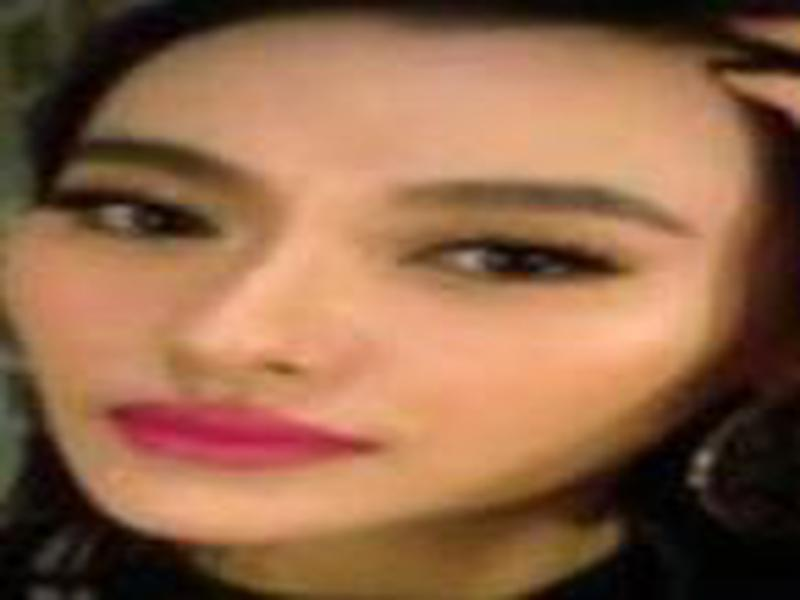without_mask: (17, 68, 736, 551)
